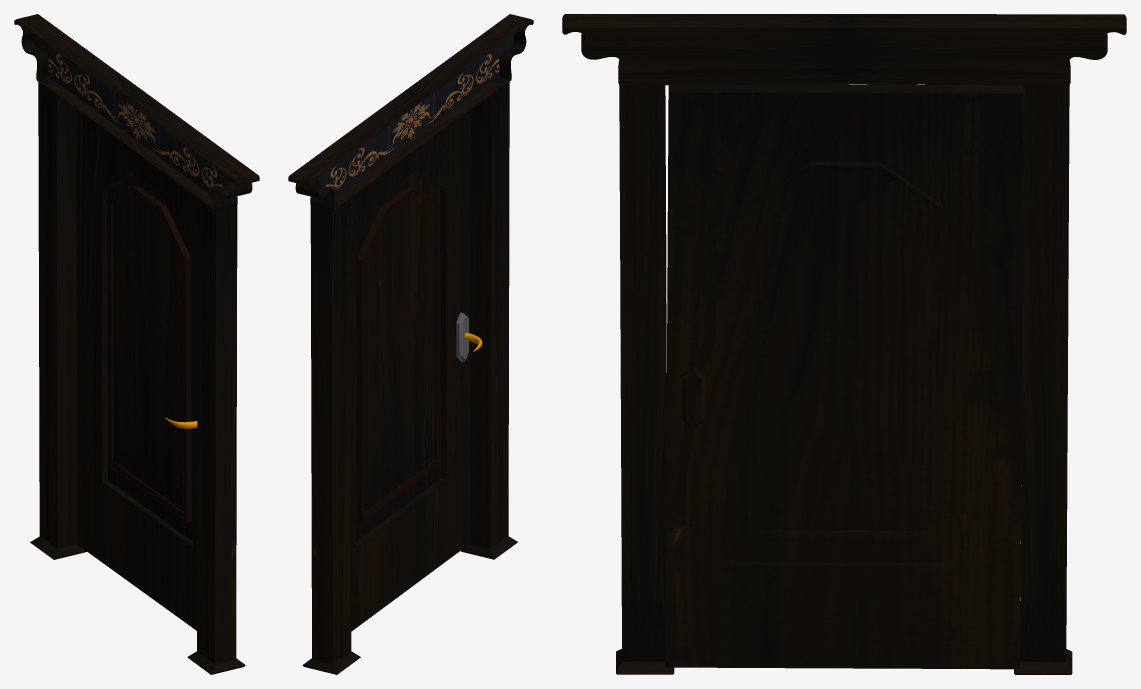
Rendered from Door.fbx.
The picture shows the model from 3 angles, left to right: view 1: azimuth 30°, elevation 25°; view 2: azimuth 150°, elevation 25°; view 3: azimuth 270°, elevation 25°; orthographic projection. The views are drawn at different scales.
Parts seen in each view (by area): view 1: Door 2; view 2: Door 2; view 3: Door 2.
Boxes of the visible parts, x1,y1,x2,y2 form: Door 2: [14, 14, 259, 674]; Door 2: [288, 14, 533, 674]; Door 2: [562, 14, 1126, 674].
Size of the model in its own units: 14.93 by 156 by 124.
